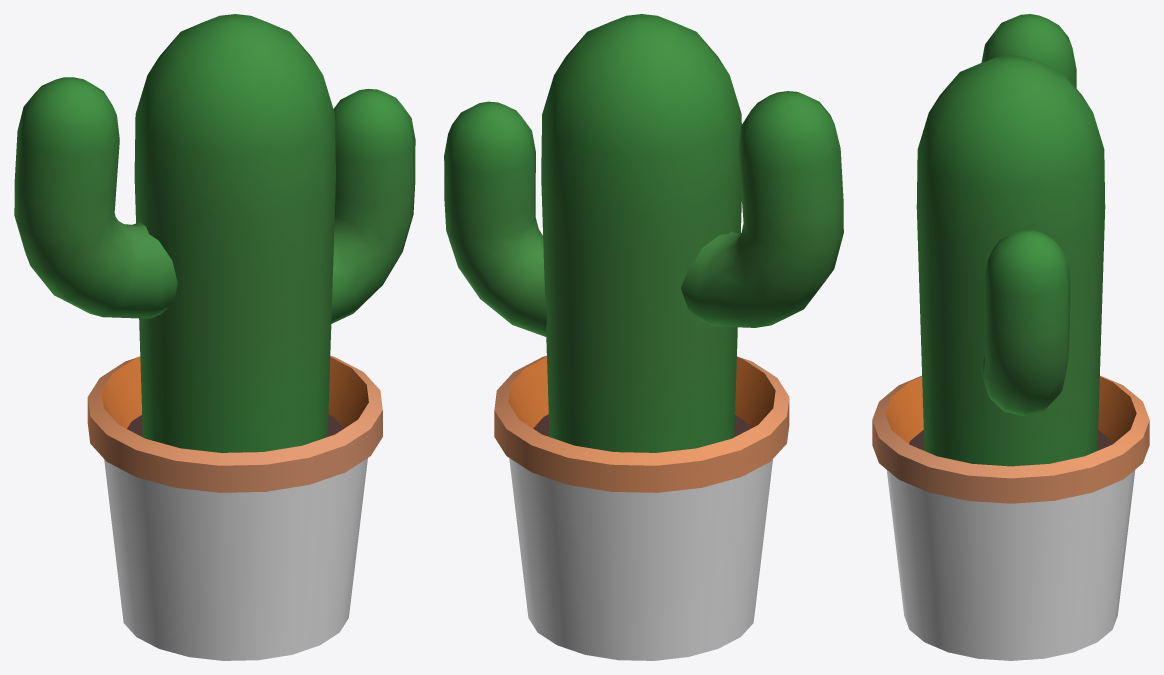
Rendered from Cactus.fbx.
3 renders of one model, left to right at view 1: azimuth 30°, elevation 25°; view 2: azimuth 150°, elevation 25°; view 3: azimuth 270°, elevation 25°, orthographic. The views are drawn at different scales.
Visible parts, largest first — view 1: Cactus; view 2: Cactus; view 3: Cactus.
Boxes of the visible parts, x1,y1,x2,y2 form: Cactus: [14, 14, 415, 660]; Cactus: [444, 14, 843, 660]; Cactus: [872, 14, 1149, 660].
Bounding box in the file's own units: 70.3 × 103 × 46.61.
